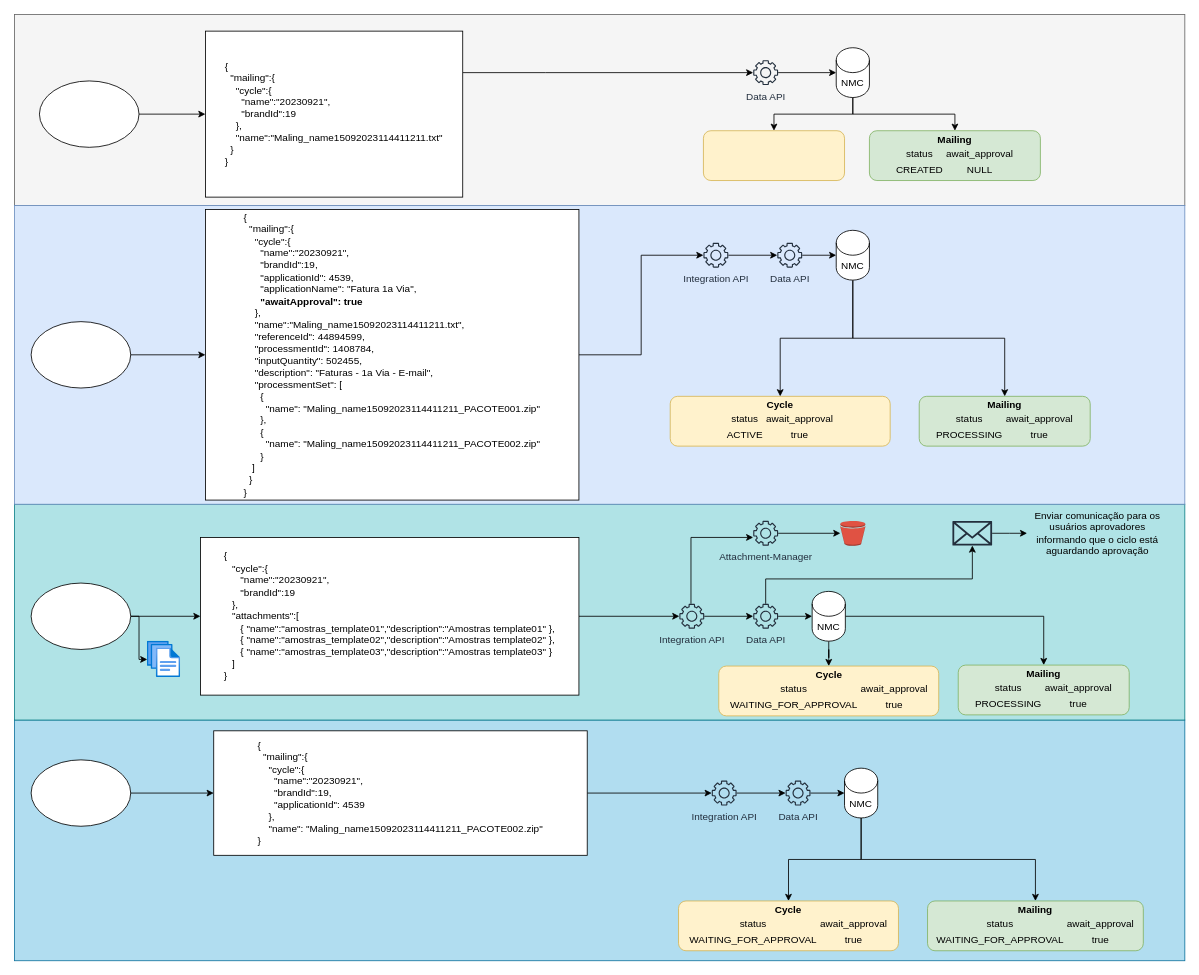
The diagram is 1199 pixels wide and 975 high, and some of its shapes have lost their labels. The shapes that lost their labels are listed below. From the top down, each one's centre as x and y in pixels, then its label:
At point 89,113: "Recepção SCP".
At point 774,155: "Cycle status await_approval ACTIVE NULL".
At point 80,354: "Inicio de Processamento SCP".
At point 852,533: "Bucket".
At point 80,615: "Amostras do ciclo".
At point 80,792: "Fim de pacote SCP".
